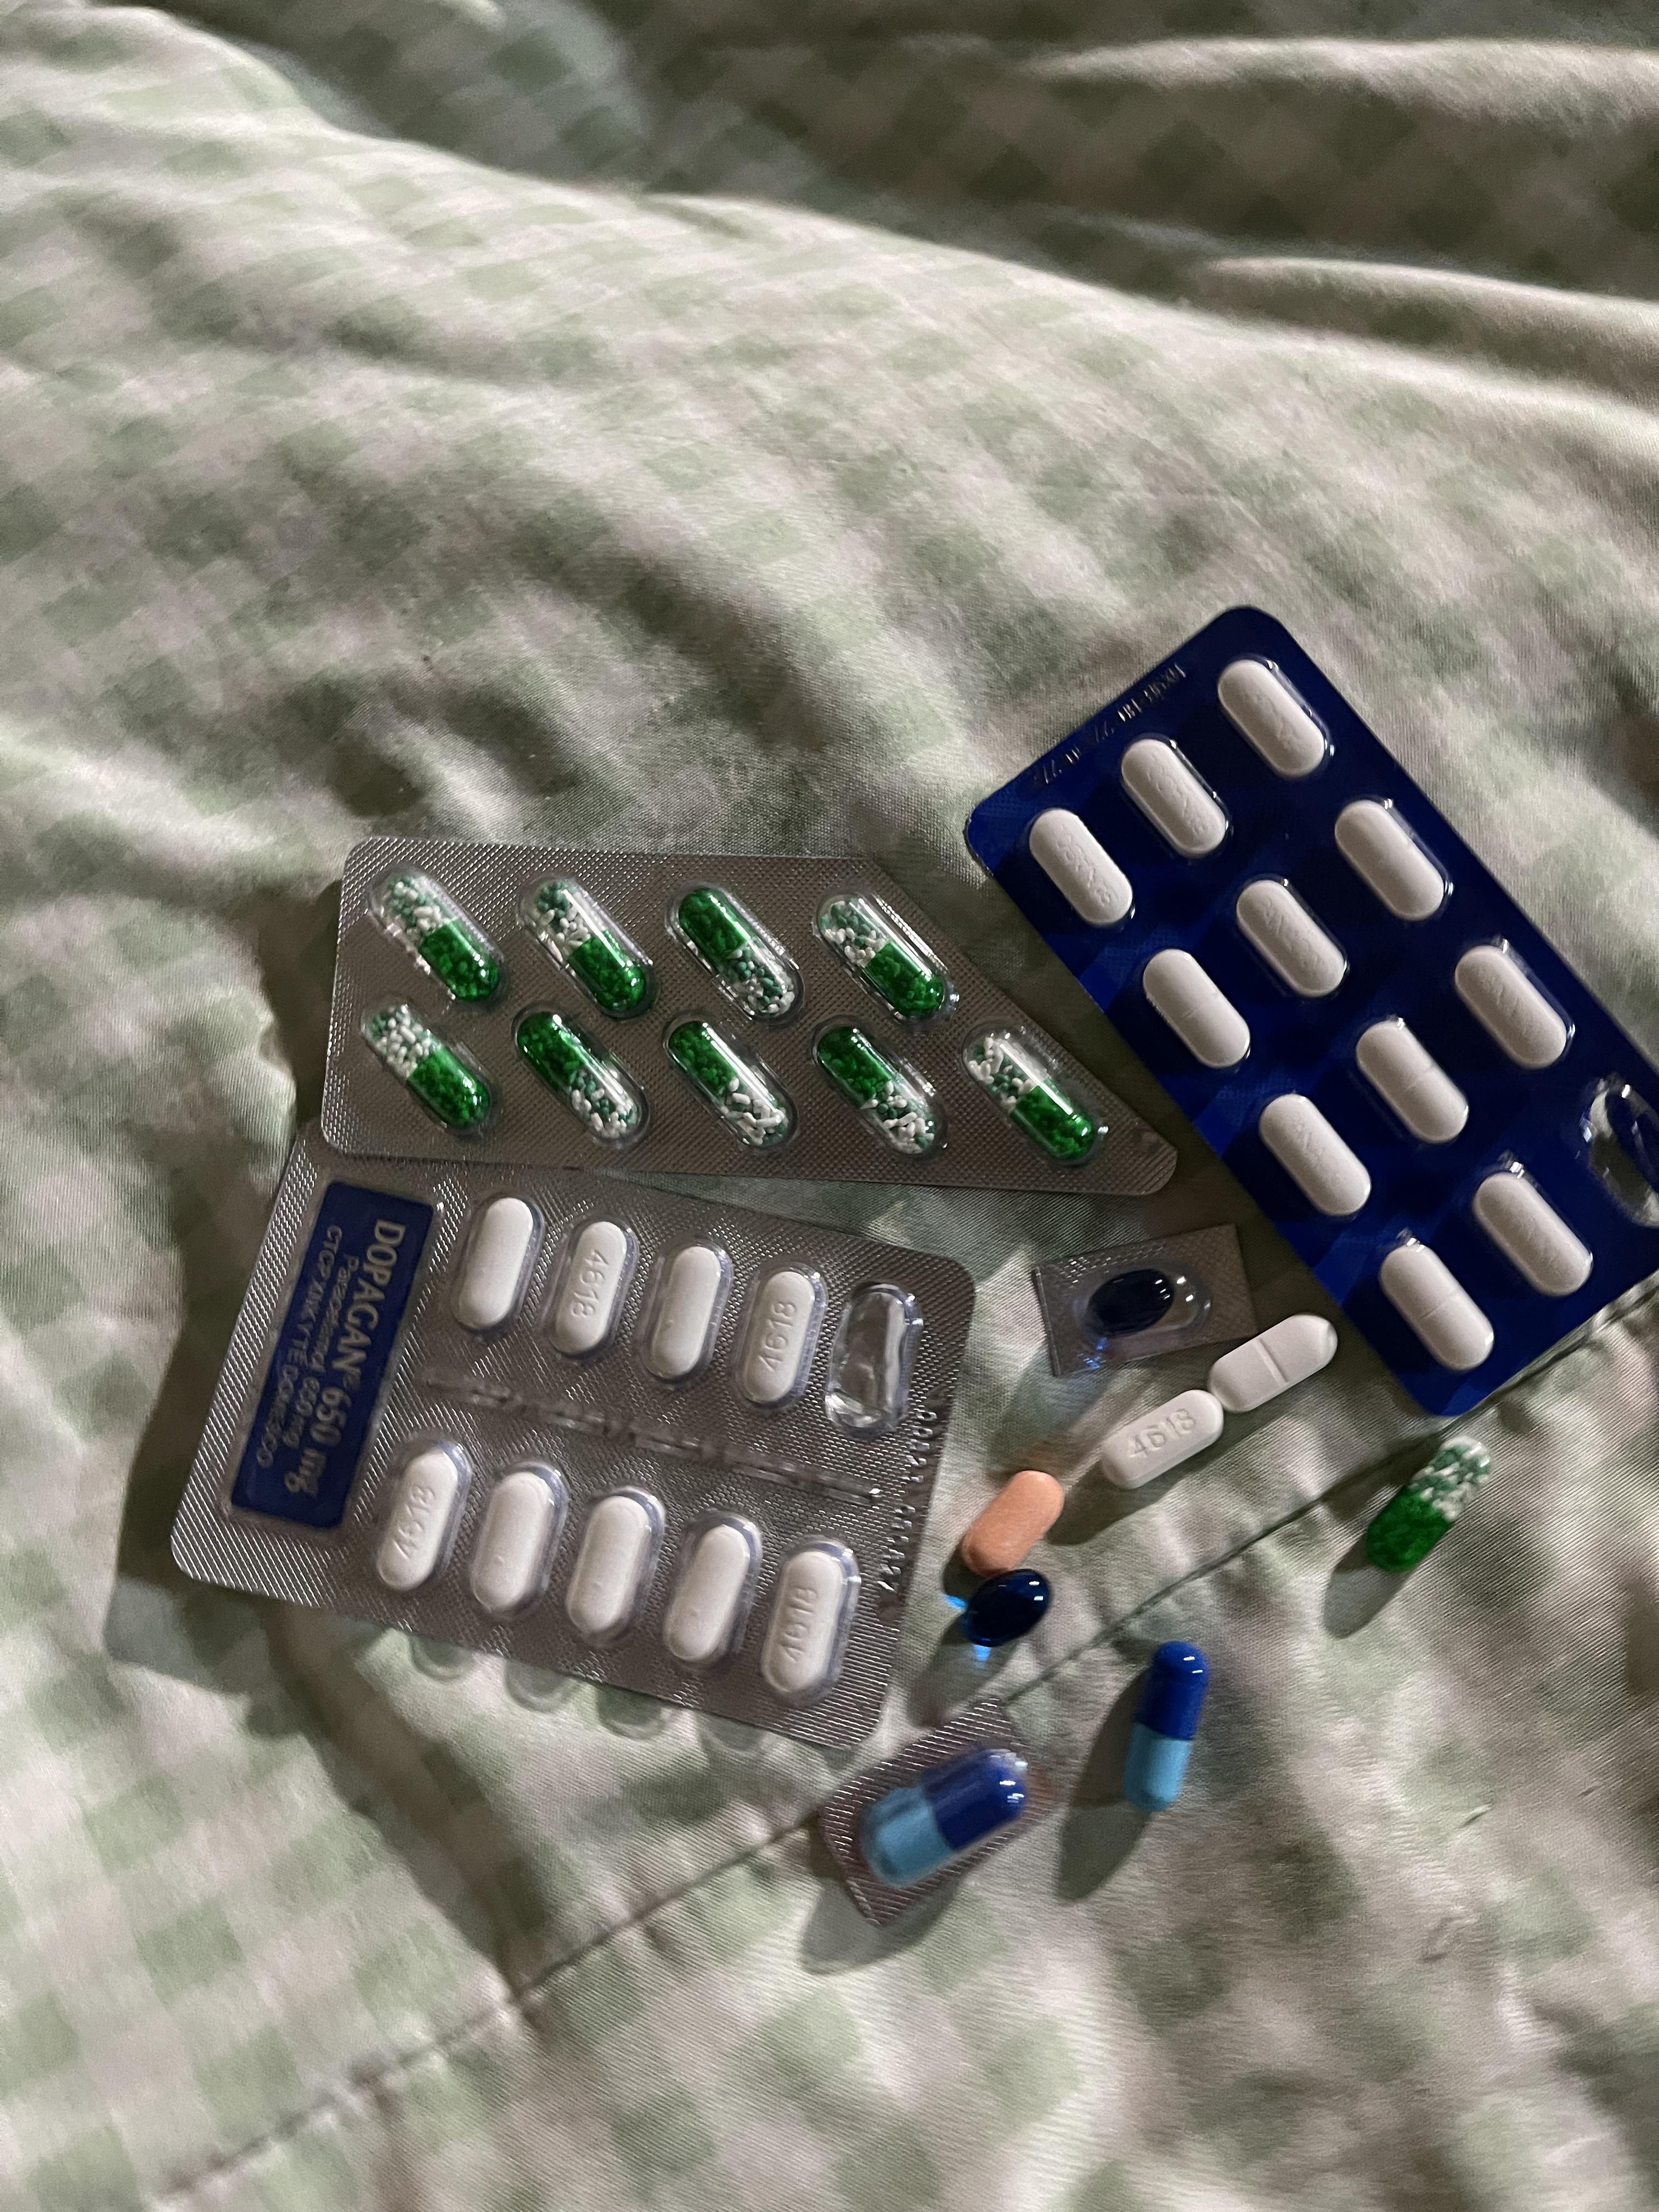Lincomyxin_500mg: (955, 1568, 1054, 1655), (1089, 1270, 1178, 1334)
Loratadine_10mg: (960, 1472, 1065, 1576)
Paracetamol_350mg: (1471, 1162, 1598, 1296), (1354, 1017, 1474, 1148), (1453, 941, 1575, 1068), (1377, 1237, 1495, 1367), (1333, 799, 1452, 921), (1258, 1094, 1373, 1219), (1236, 876, 1351, 998), (1119, 735, 1230, 860), (1218, 657, 1330, 779), (1143, 951, 1253, 1073), (1026, 810, 1133, 928), (1216, 1312, 1340, 1407)
Paracetamol_500mg: (662, 1510, 765, 1672), (563, 1487, 664, 1646), (756, 1536, 857, 1695), (469, 1460, 568, 1618), (376, 1437, 474, 1588), (634, 1238, 728, 1386), (730, 1259, 824, 1406), (544, 1219, 634, 1359), (1096, 1390, 1220, 1491), (451, 1198, 542, 1334)
Paracetamol_650mg: (662, 1014, 793, 1153), (528, 881, 659, 1019), (1361, 1433, 1497, 1562), (380, 873, 505, 1003), (519, 1010, 641, 1143), (971, 1035, 1098, 1160), (676, 888, 798, 1017), (369, 1005, 491, 1130), (816, 1029, 936, 1155), (823, 897, 931, 1010)
pill: (861, 1745, 1028, 1886), (1126, 1639, 1209, 1810)
